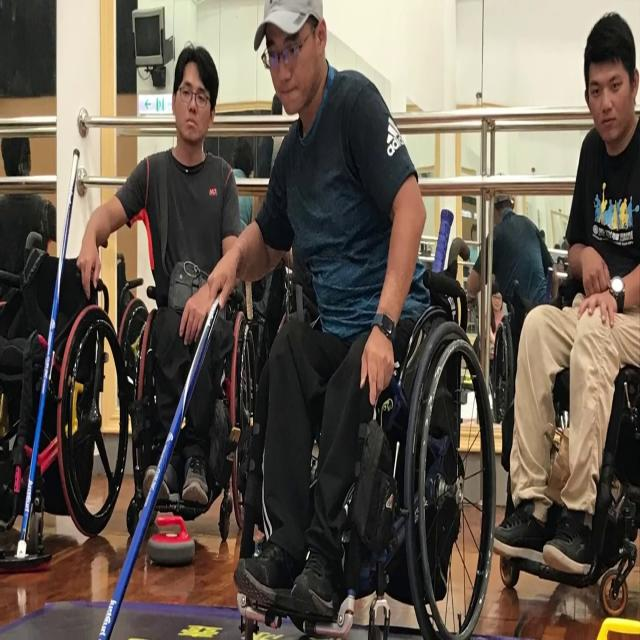wheelchairs: (239, 242, 514, 640), (483, 245, 640, 640), (124, 251, 273, 573), (0, 242, 138, 556)
